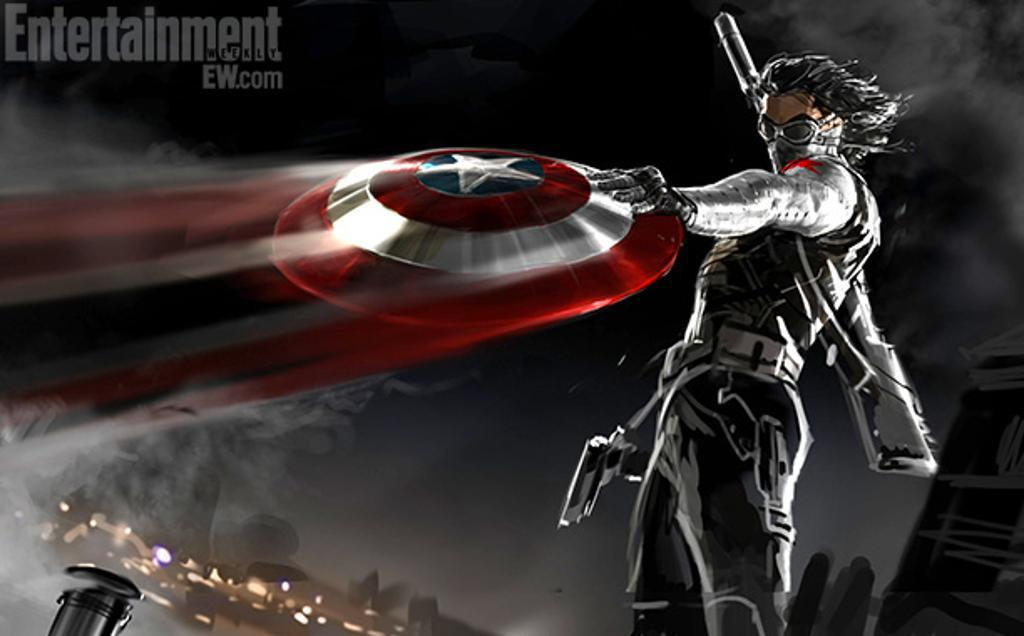face: (761, 91, 821, 185)
